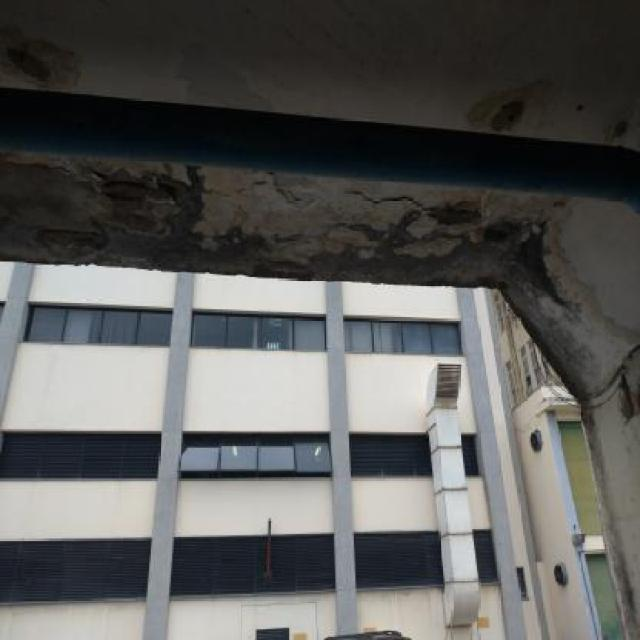gas: (4, 91, 630, 205)
